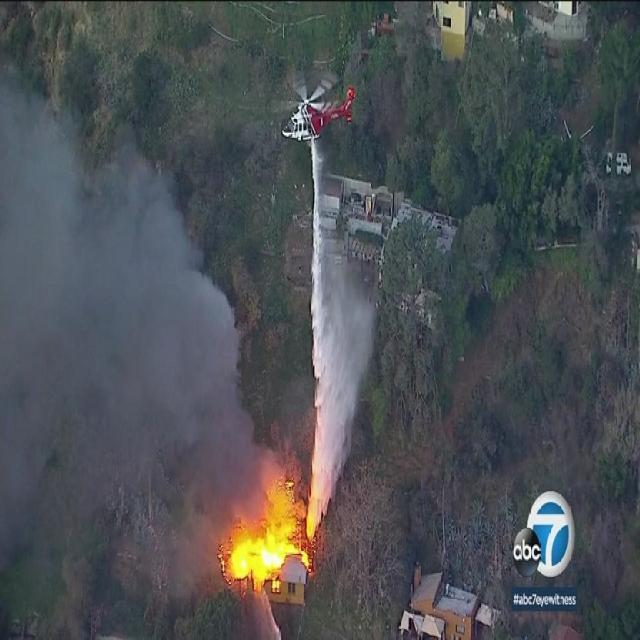Fire: (222, 484, 313, 592)
Smoke: (0, 85, 73, 570), (137, 268, 253, 507), (79, 143, 137, 527), (137, 156, 206, 264)
